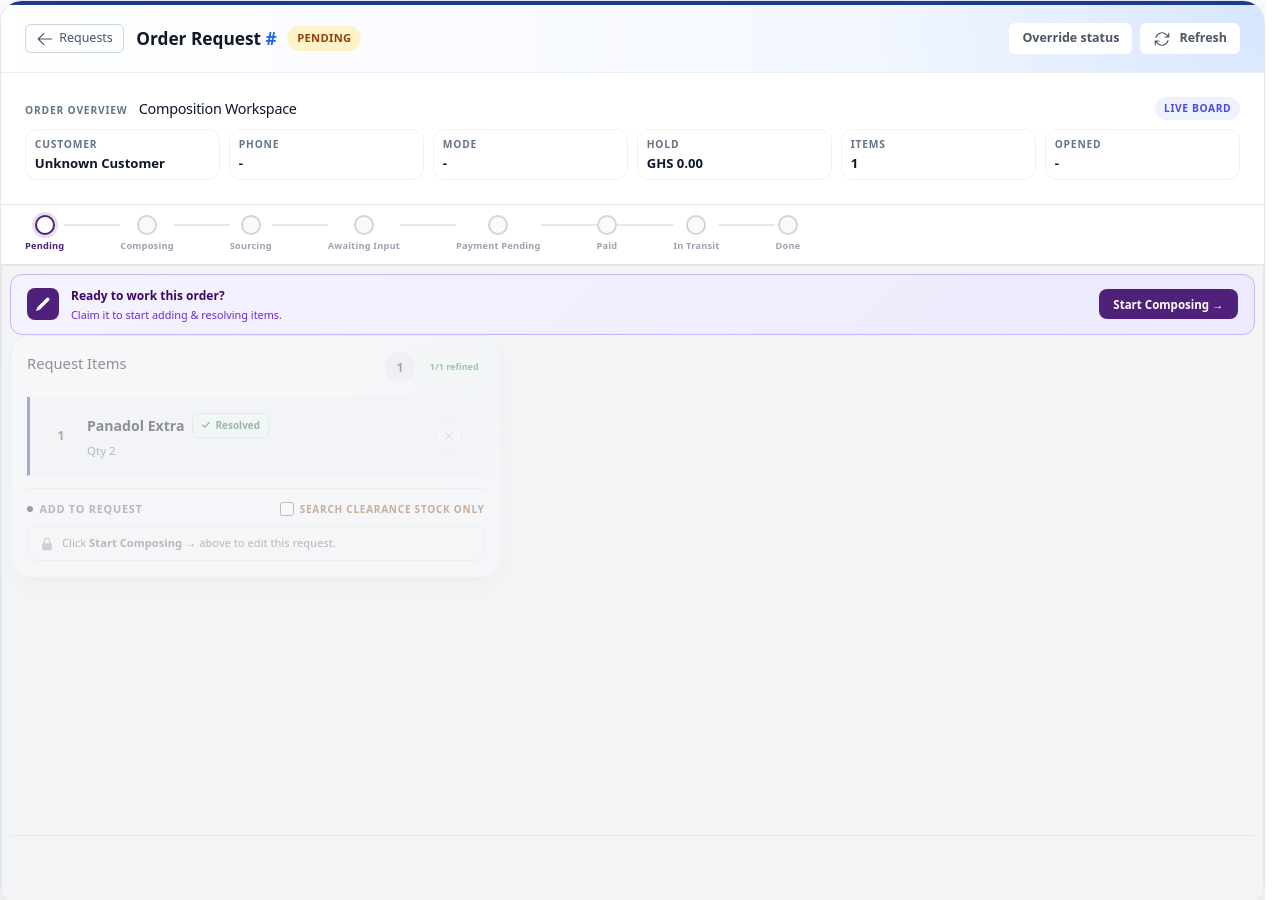
it: next step: starting work on a request › says so when the status cannot be changed
Click the button "Start Composing →".
click(1168, 304)  # box [1099,289,1238,319]
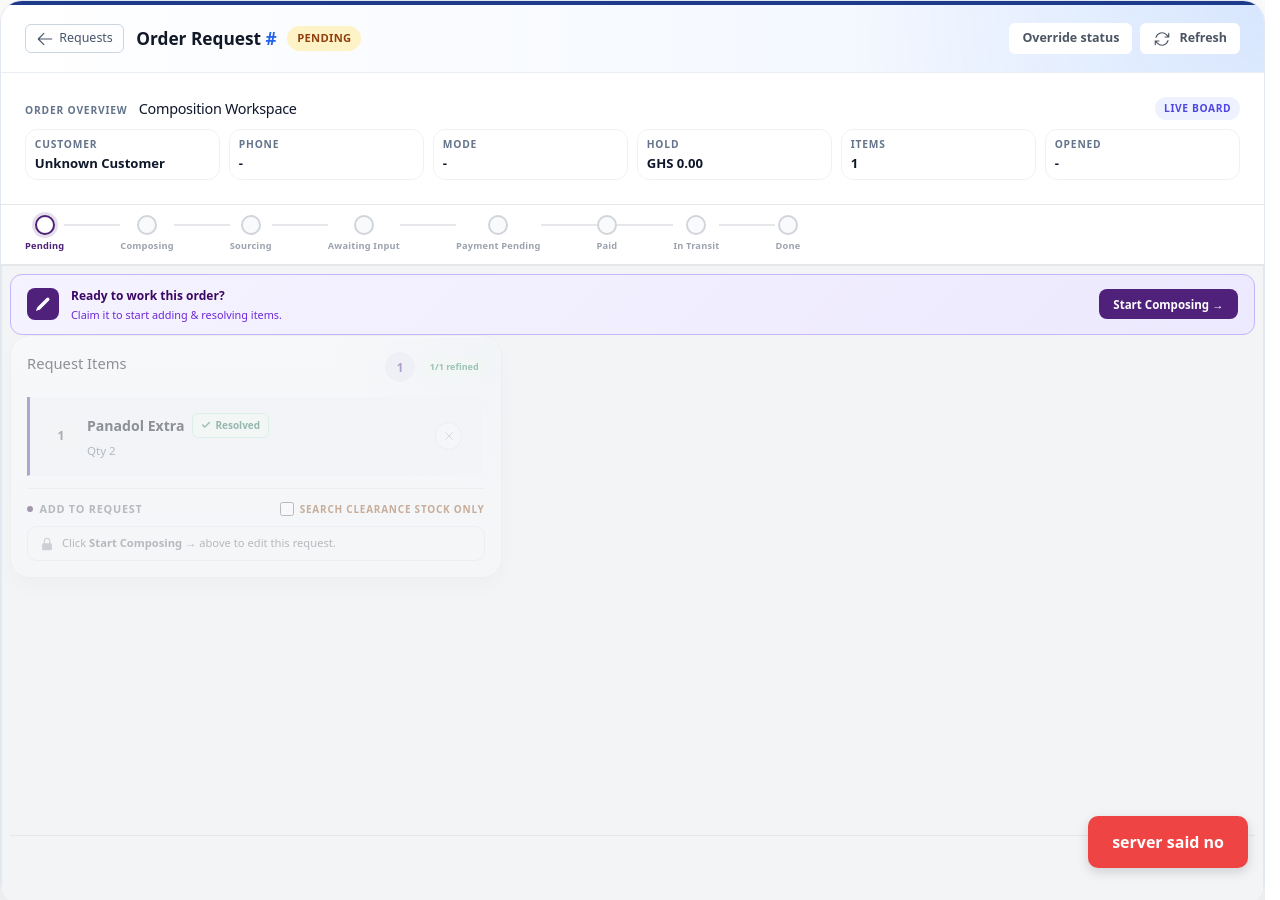
Expected: the text "server said no" is shown, [1088,816,1248,868]
